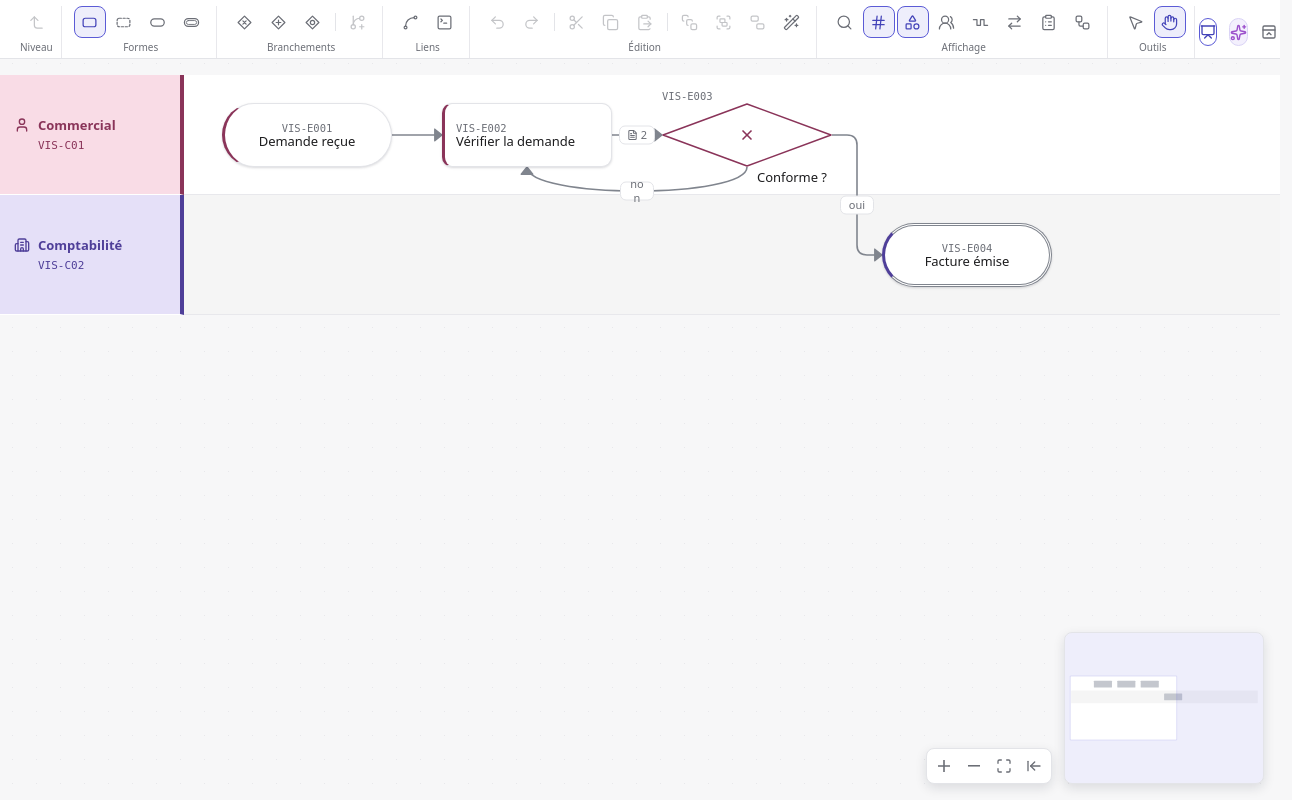
Scenario: the status chosen from the keyboard in the plan (ADR 116, review M1) › the arrows then Enter write the status chosen, once
Click the button with test id "ribbon-plan". click: (1049, 22)
box: [1033,6,1065,38]
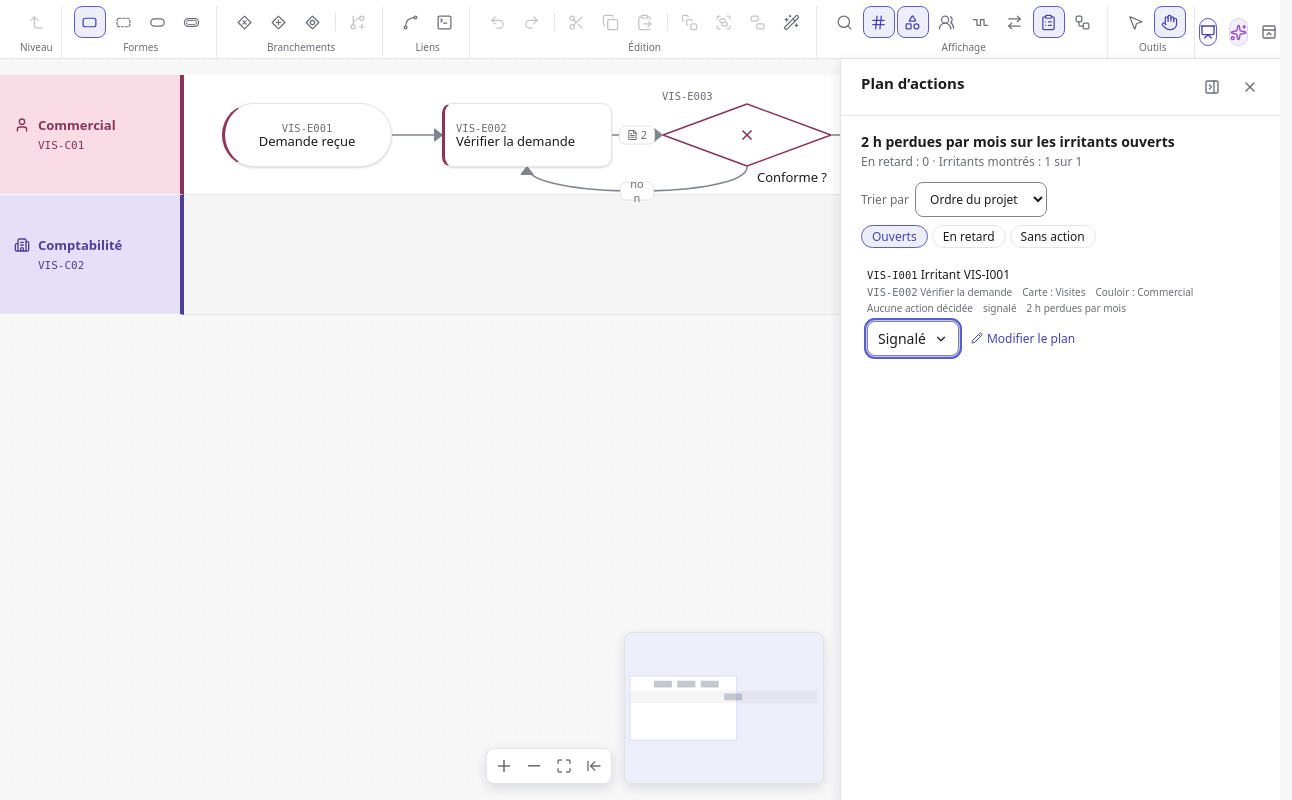
Now the list item with test id "^plan-line-" is shown, box [861,260,1260,360]
Type keys "{Alt>}{ArrowDown}{/Alt}{ArrowDown}{ArrowDown}{Enter}"
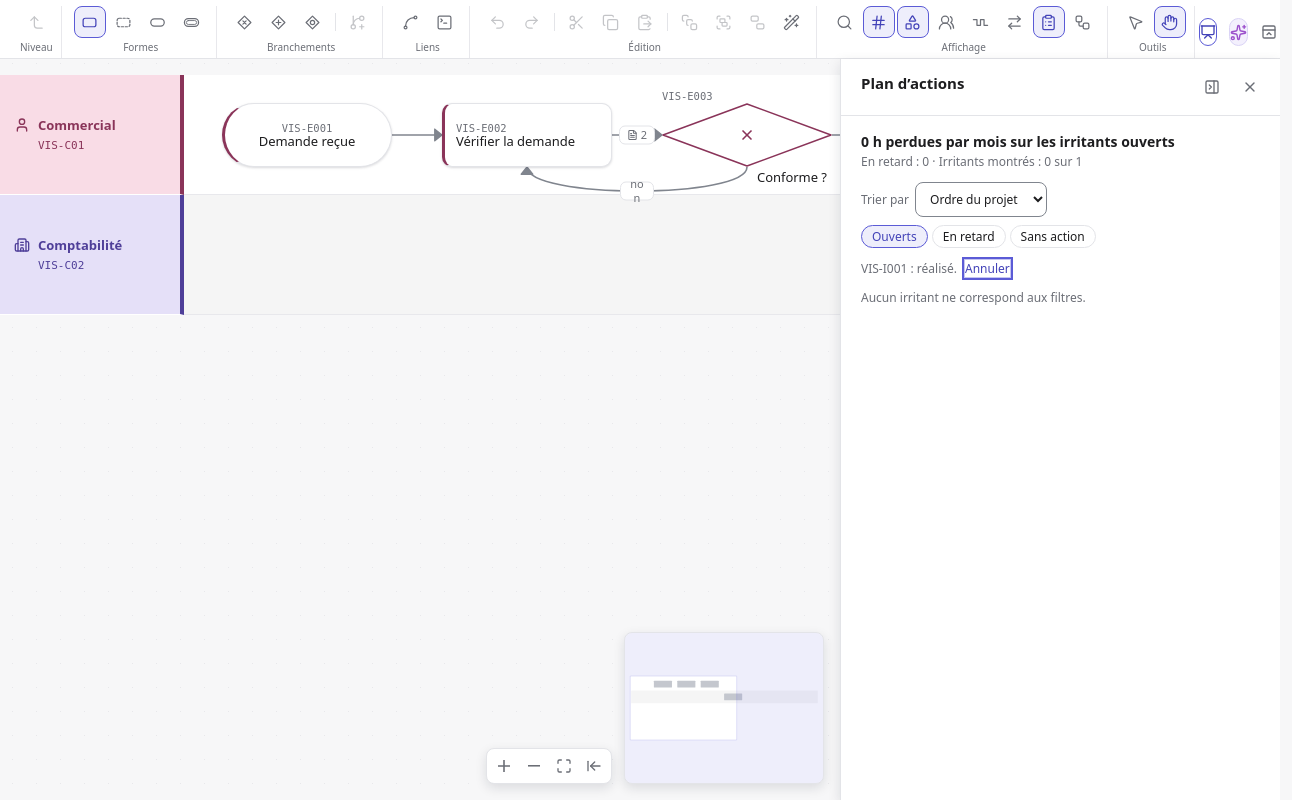
Now the element with test id "plan-change" shows "VIS-I001 : réalisé.", box [861,260,957,277]
